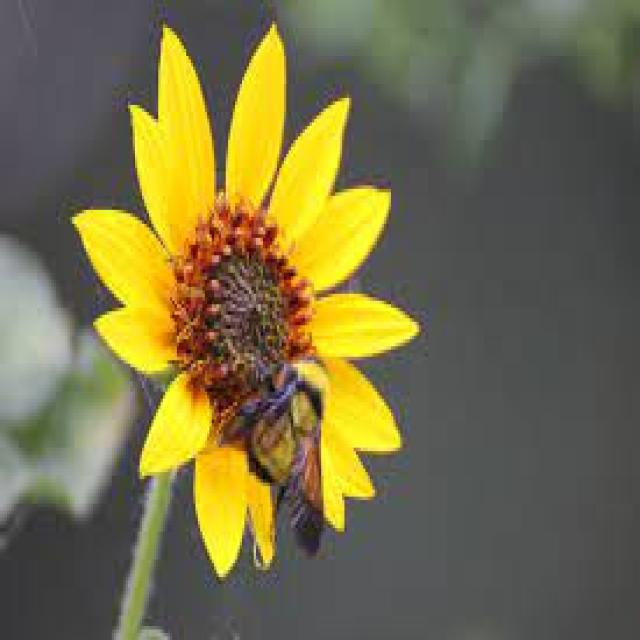sunflower: (64, 15, 432, 591)
